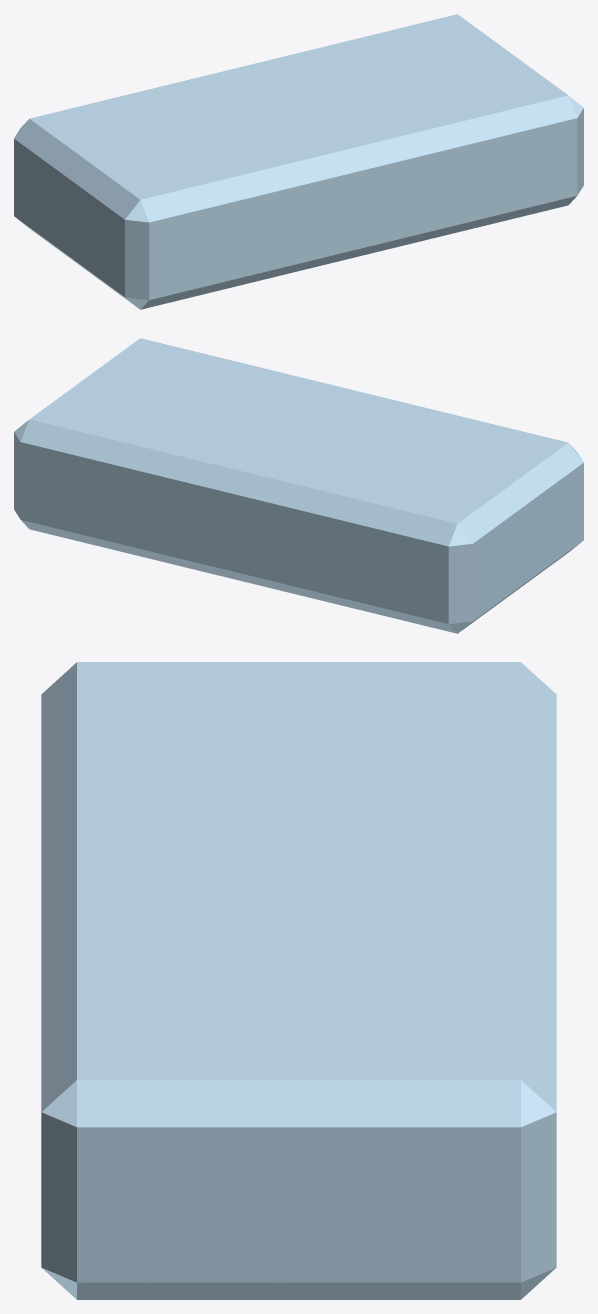
Rendered from R4B_Plate1x2.fbx.
3 renders of one model, top to bottom at view 1: azimuth 30°, elevation 25°; view 2: azimuth 150°, elevation 25°; view 3: azimuth 270°, elevation 25°, orthographic. The views are drawn at different scales.
Visible parts, largest first — view 1: R4B_Plate1x2; view 2: R4B_Plate1x2; view 3: R4B_Plate1x2.
Part boxes in pixels (box(x1,y1,x2,y2)): R4B_Plate1x2: box(14, 14, 583, 309); R4B_Plate1x2: box(14, 338, 583, 633); R4B_Plate1x2: box(41, 662, 556, 1299).
Size of the model in its own units: 1.07 by 0.245 by 0.52.
